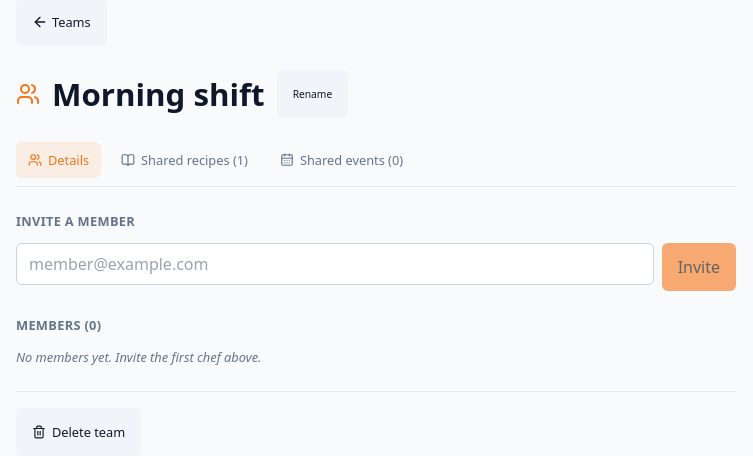
Test case: TeamDetail — tabs (T6) › Shared recipes tab shows only recipes whose sharedWithGroupIds includes this team
Check: the navigation bar with test id "team-detail-tabs" is shown, box [16, 142, 736, 187]
Click the tab with test id "team-detail-tab-recipes": x=184, y=160 [109, 142, 260, 178]
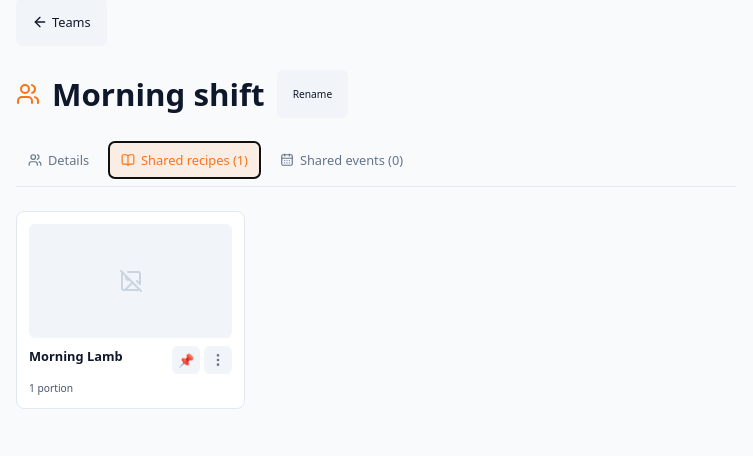
Check: the element with test id "team-detail-shared-recipes" is shown, box [16, 211, 245, 409]
Check: the link "Morning Lamb" is shown, box [29, 347, 123, 365]
